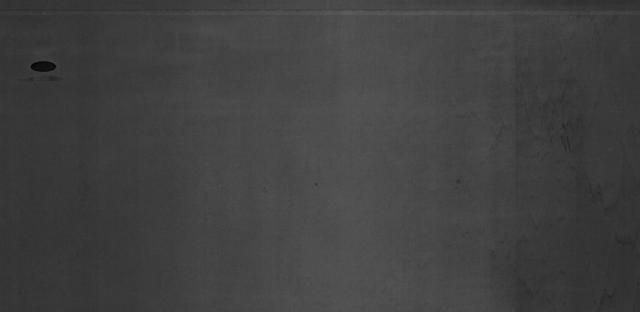punching_hole: (27, 57, 59, 74)
silk_spot: (493, 46, 629, 210)
welding_line: (5, 4, 637, 22)
